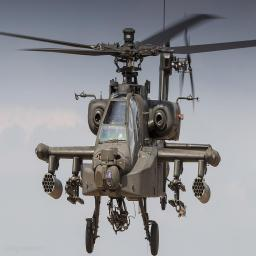helicopter: (2, 6, 256, 256)
